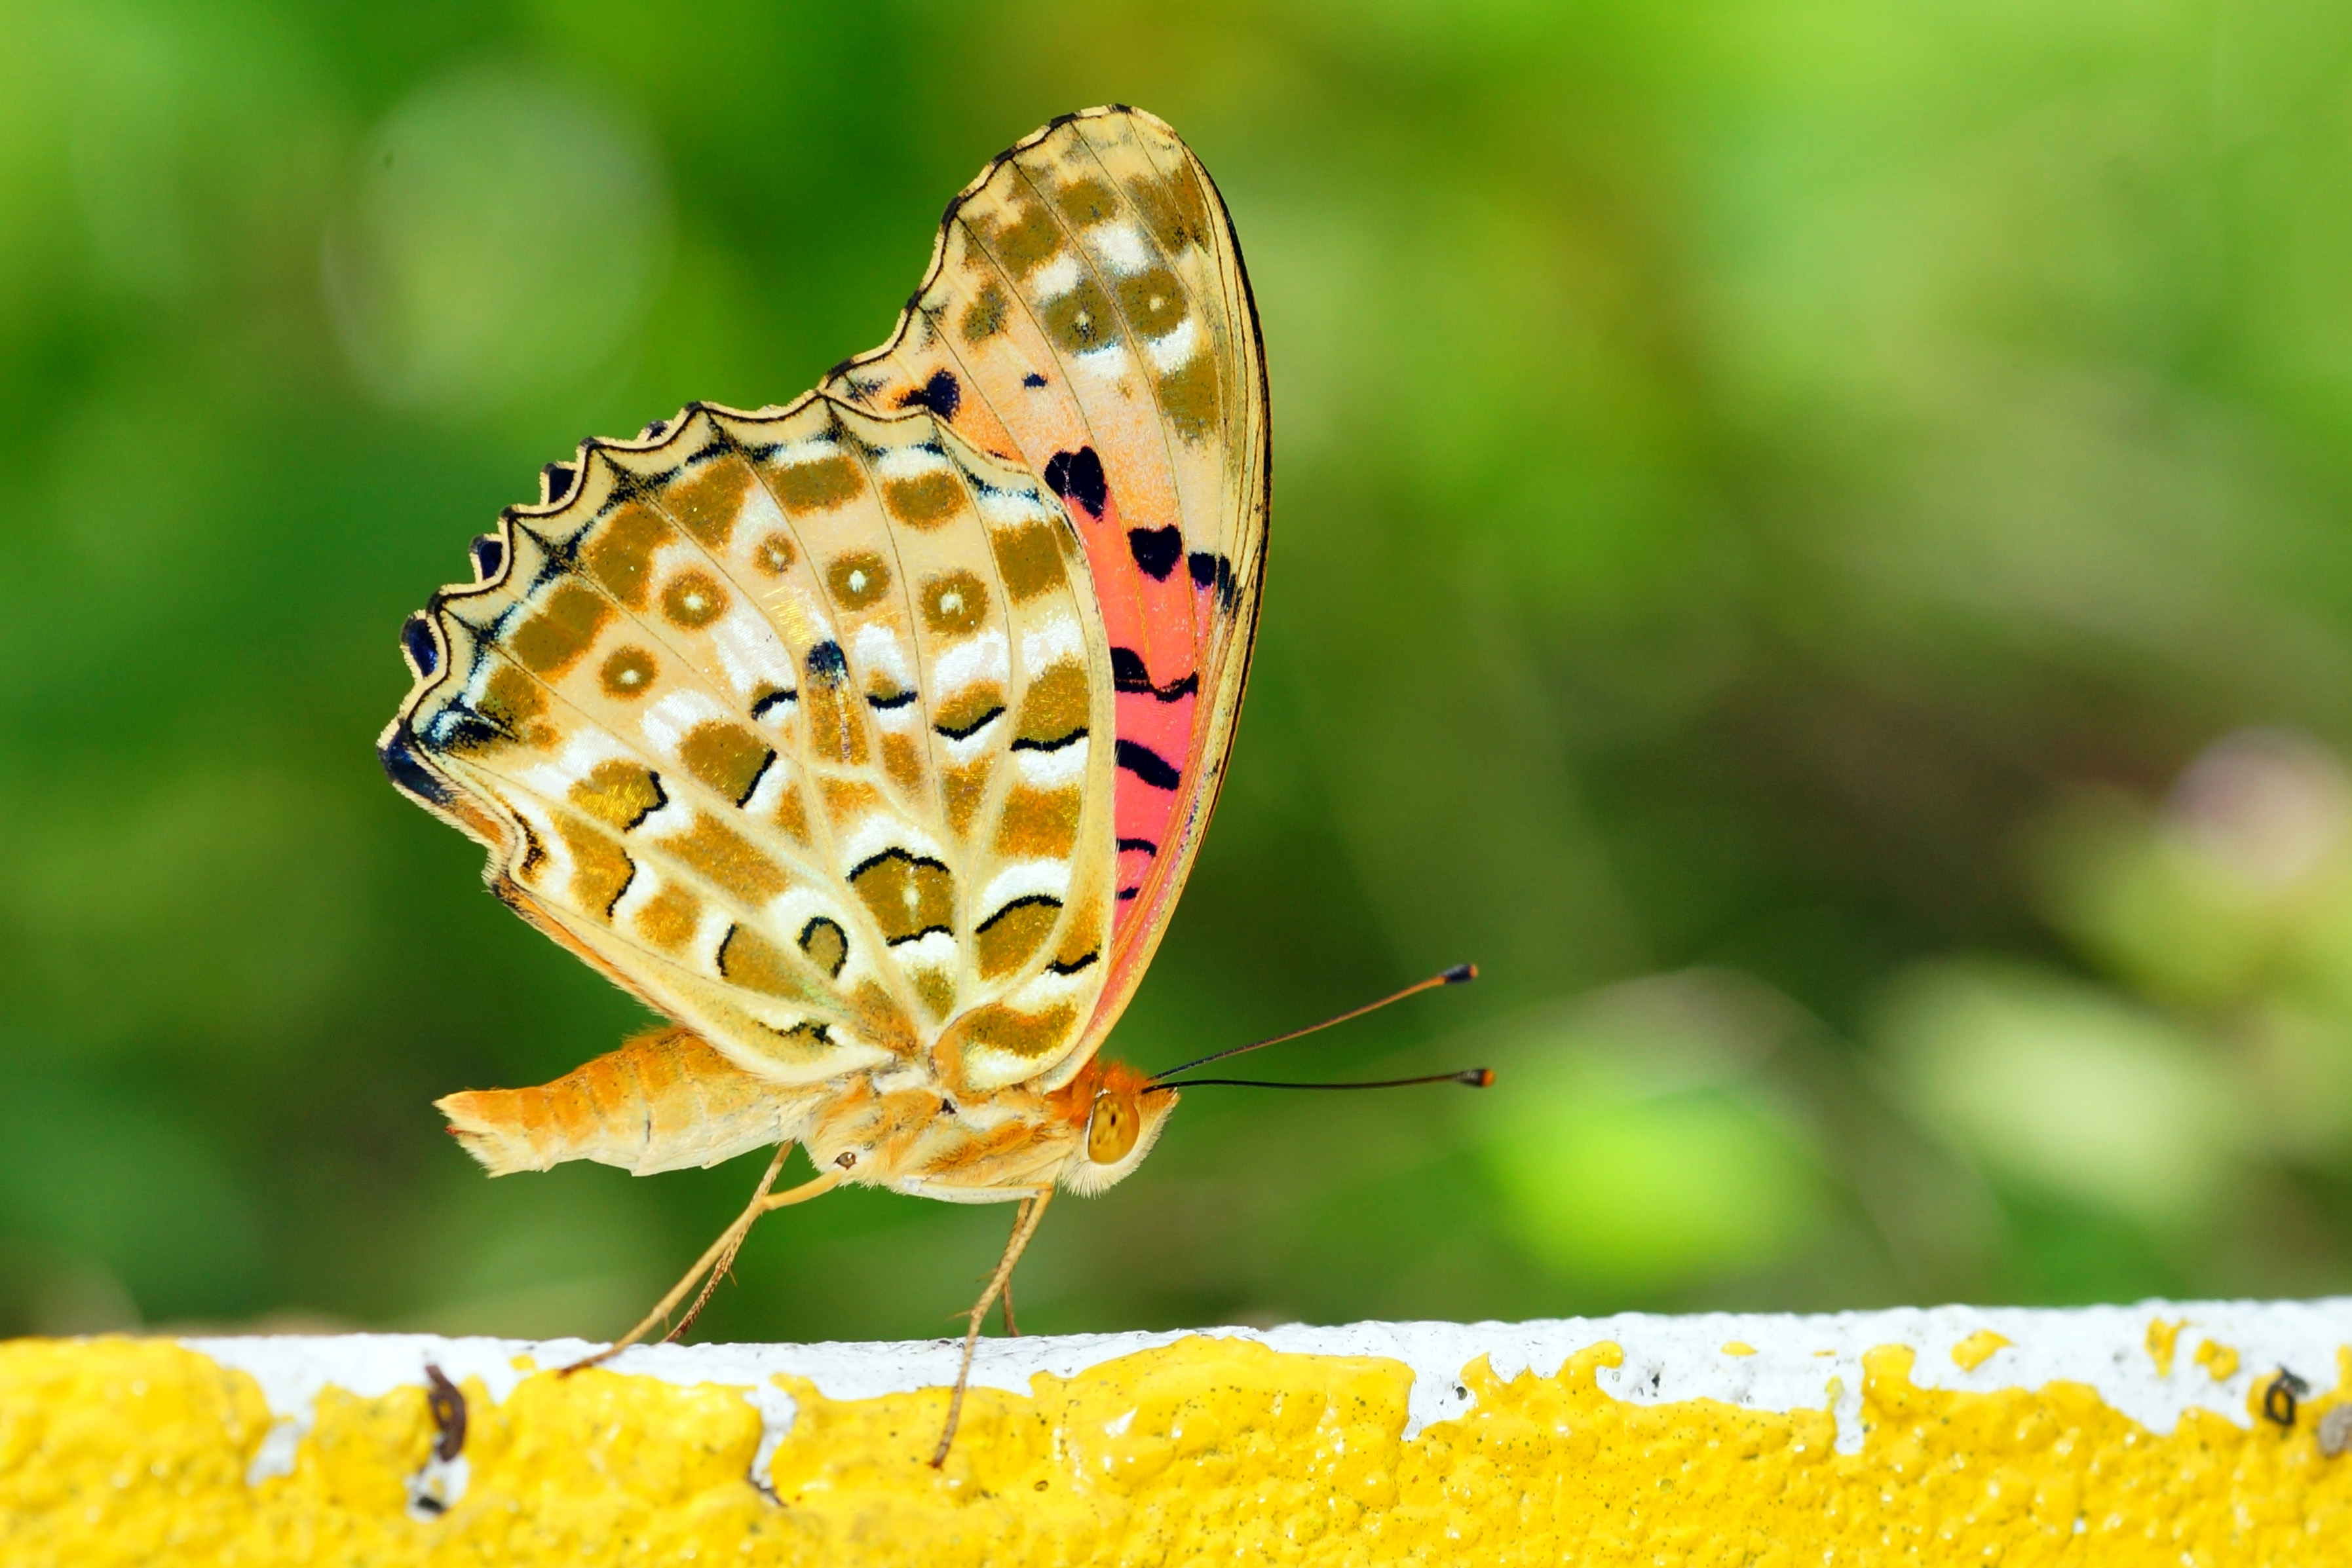Argyreus hyperbius: (352, 94, 1528, 1484)
butterfly: (353, 96, 1530, 1484)
